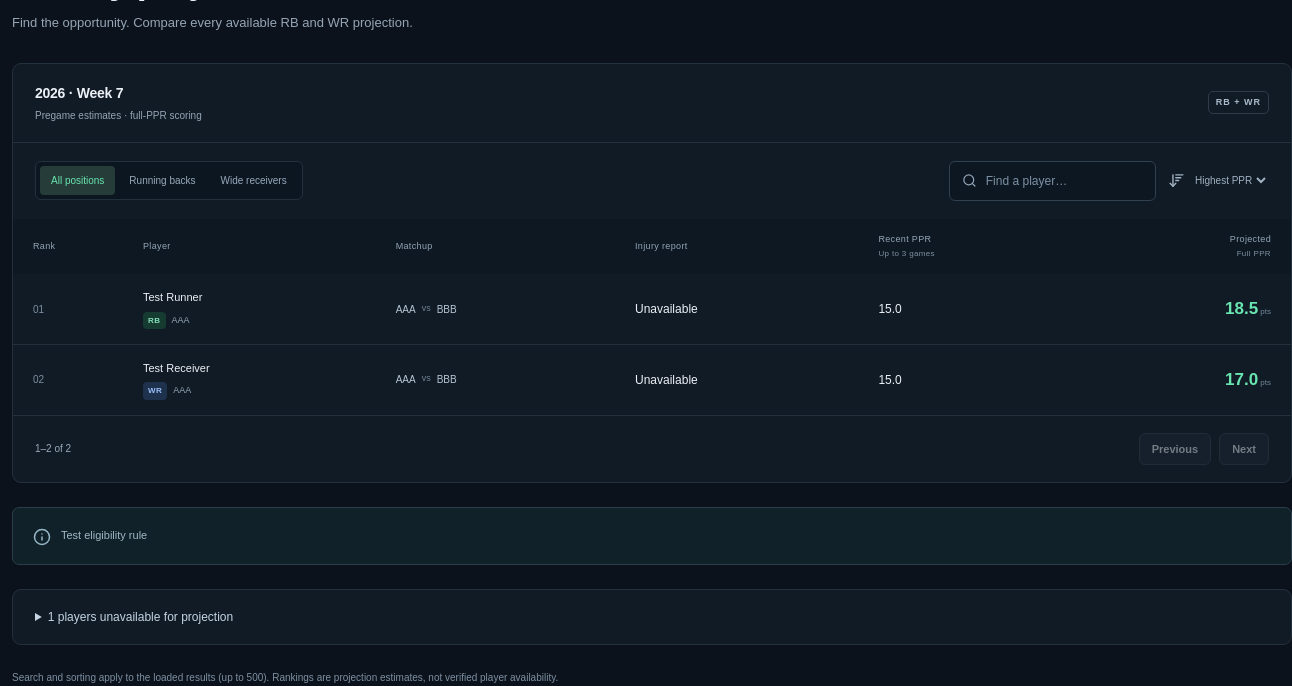
Test: workspace and data views › explains players excluded from weekly projections
The width and height of the screenshot is (1292, 686).
(page scrolled)
Click the heading "1 players unavailable for projection" at (140, 617), box [48,610,233,624]
(page scrolled)
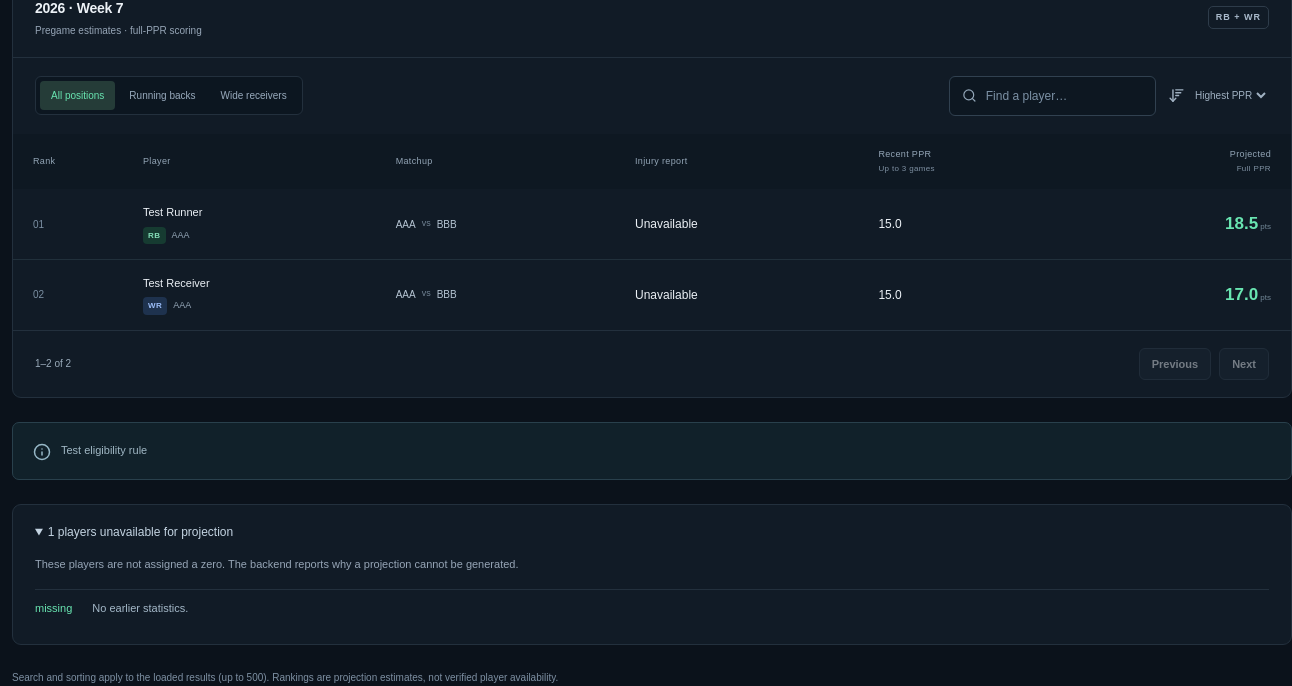
Check: the text "No earlier statistics." is shown, box [92,602,188,614]
